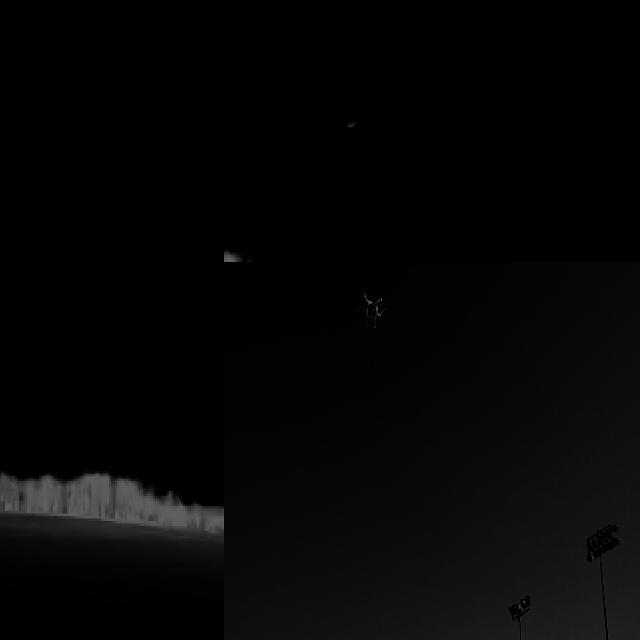0: (145, 34, 165, 60), (103, 0, 125, 5)
1: (333, 110, 369, 150)
drone: (356, 281, 389, 336)
